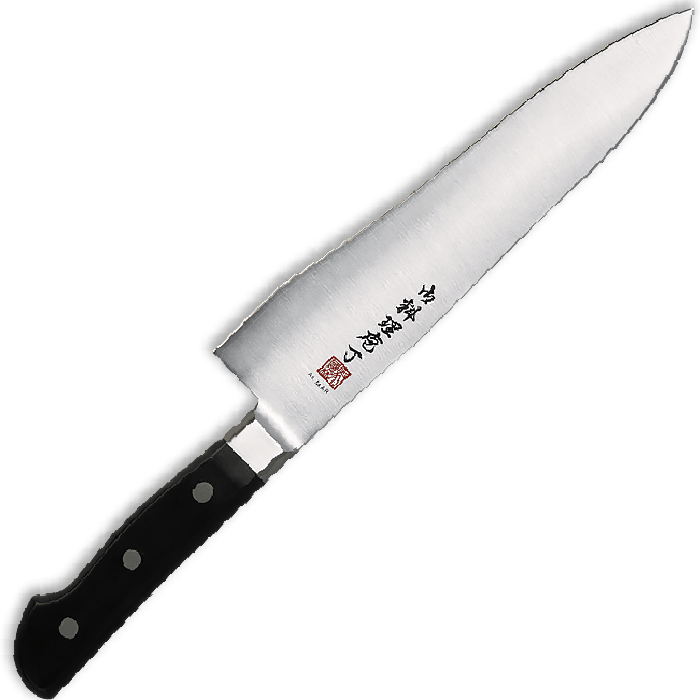knife: (12, 4, 696, 700)
